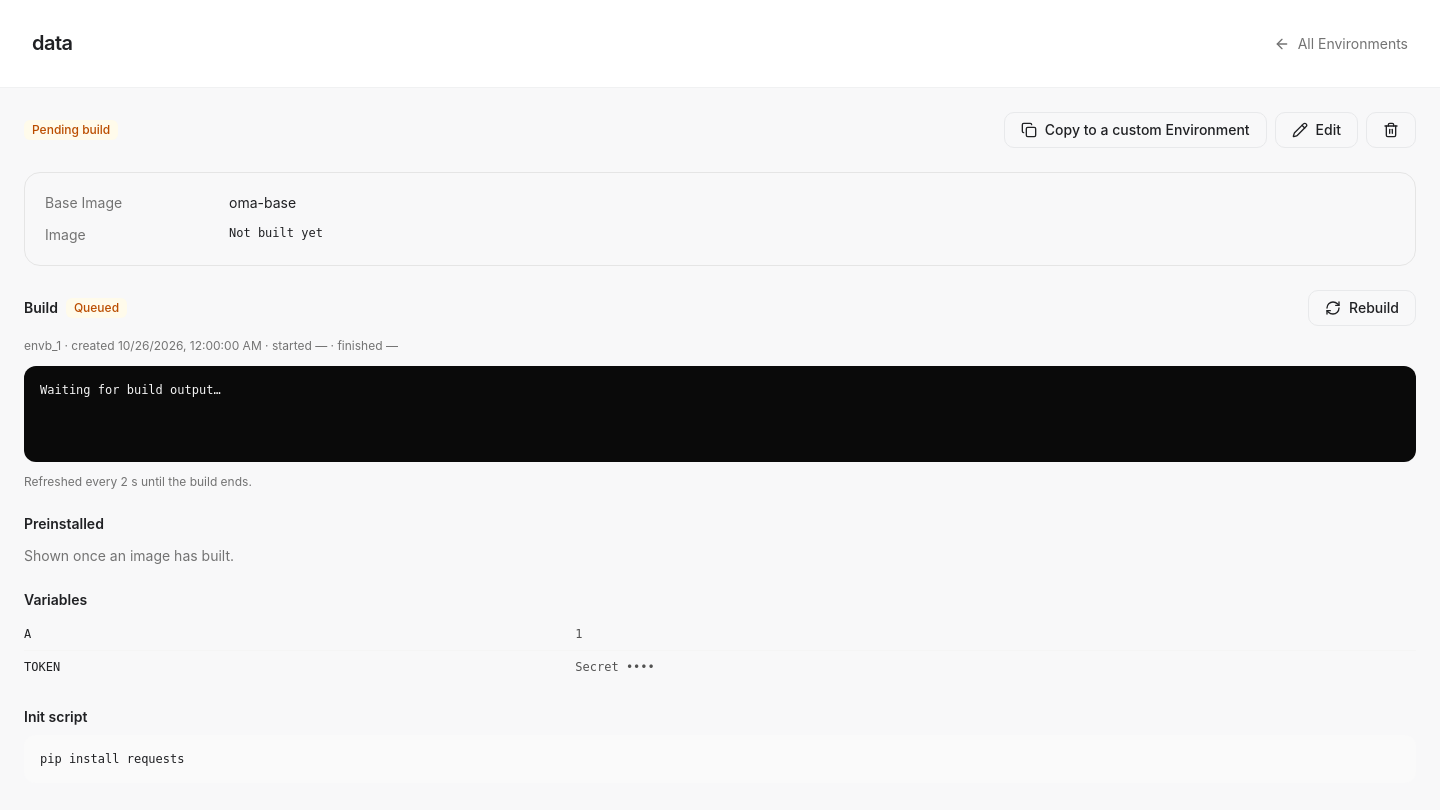
Test: deletes an Environment after confirmation
Click the button named "Delete Environment": x=1391, y=130 [1366,112,1416,148]
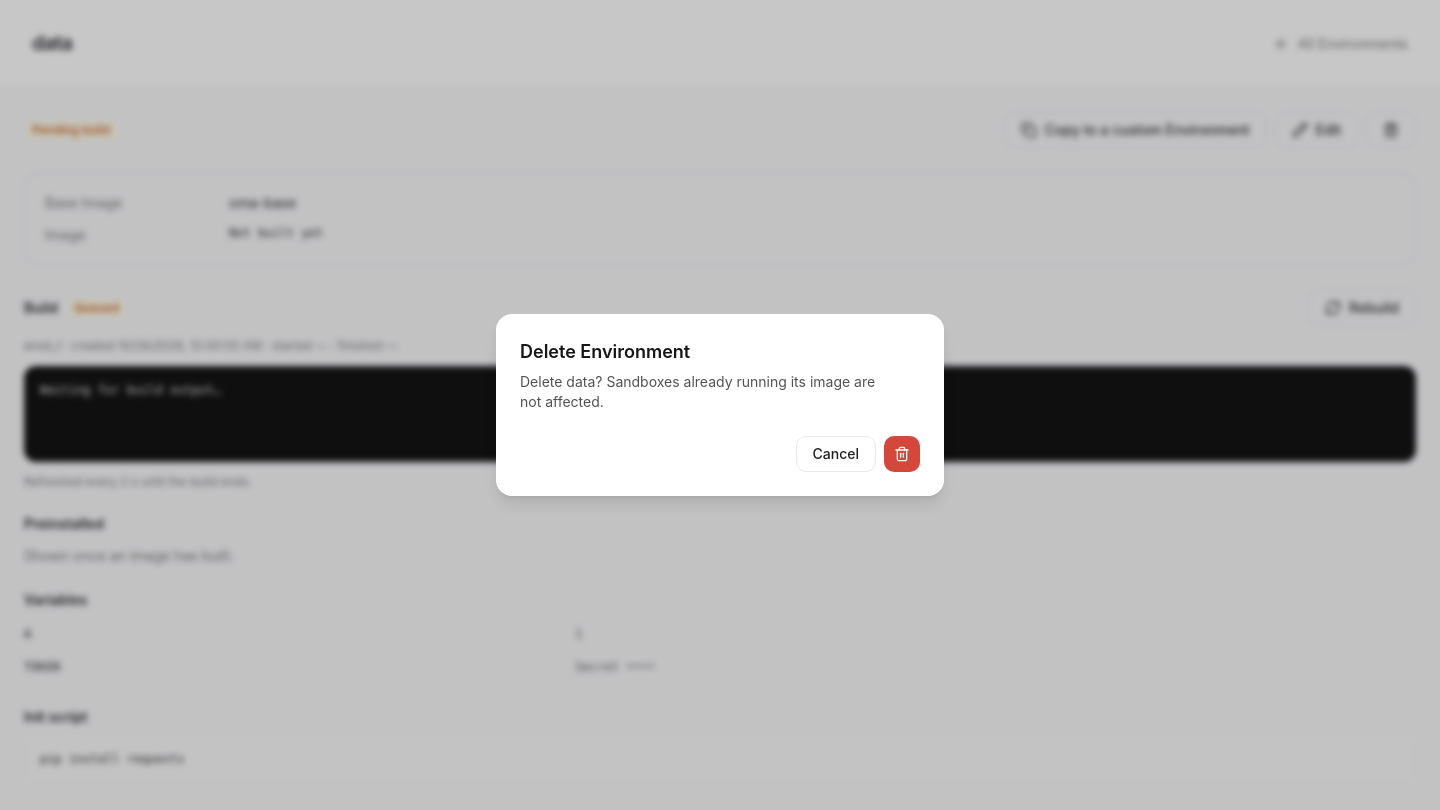
Click the button named "Delete": x=902, y=454 [884,436,920,472]
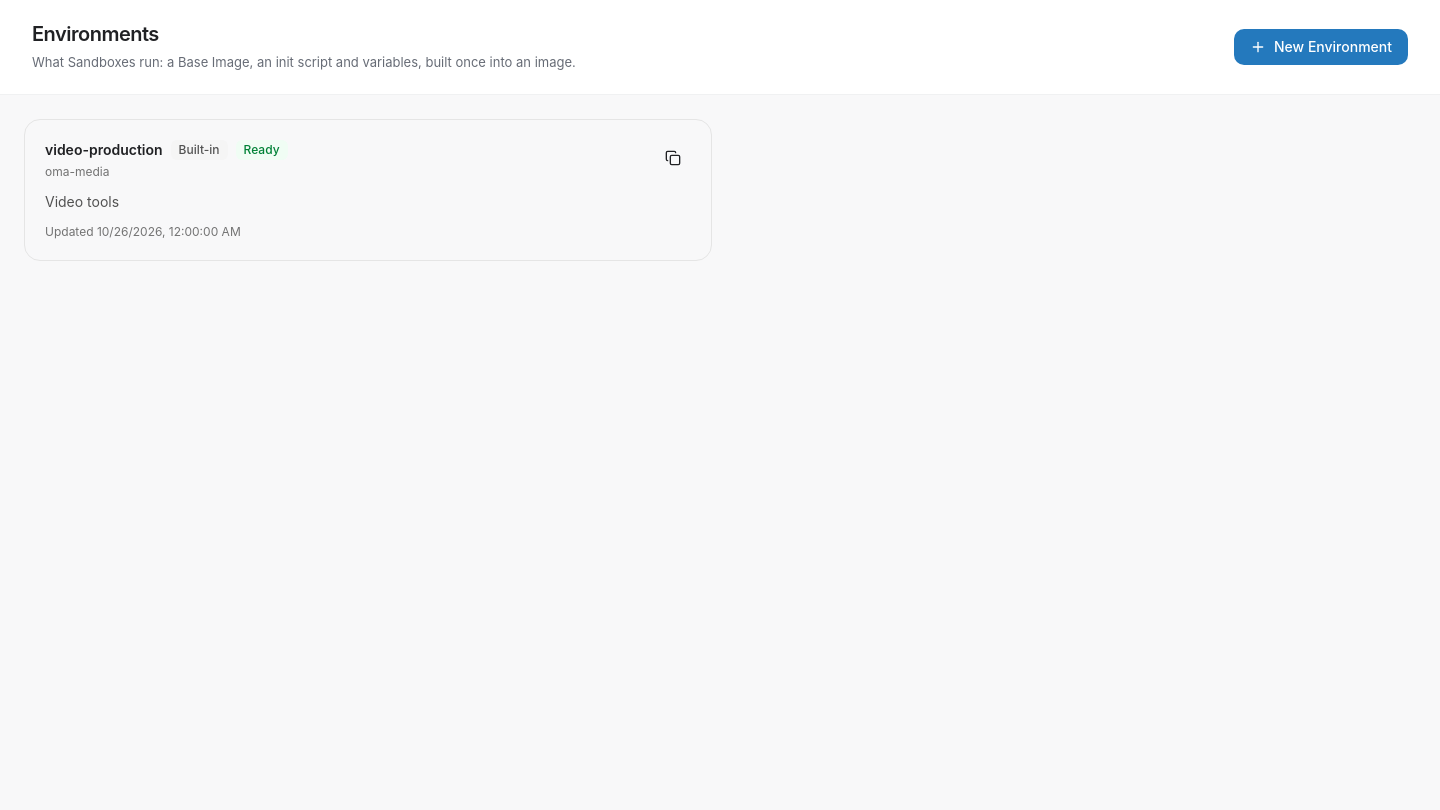
Expected: the button "New Environment" is shown, [1234,29,1408,65]
